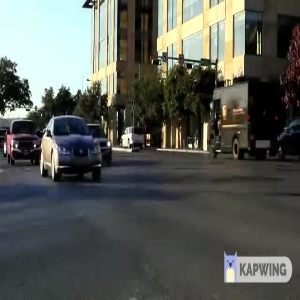car: (38, 115, 108, 189)
suv: (112, 125, 150, 150)
truck: (3, 118, 43, 170)
van: (196, 77, 283, 161)
